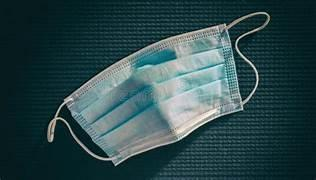Mask: (47, 12, 269, 164)
